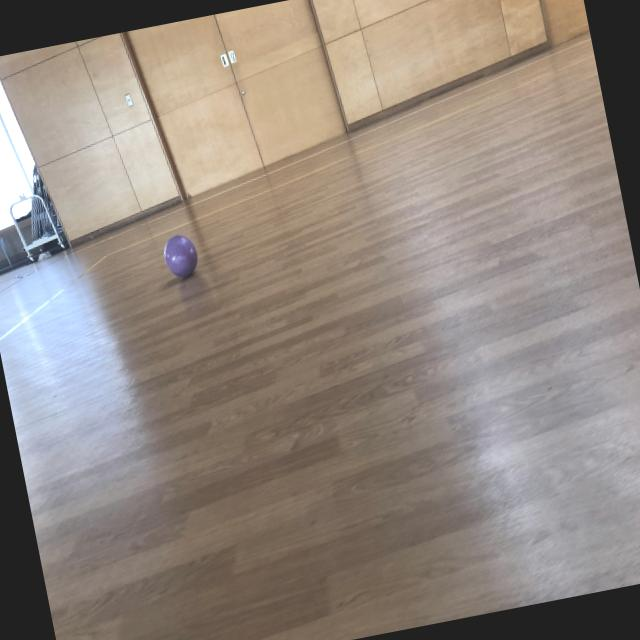purple_ball: (160, 230, 202, 282)
